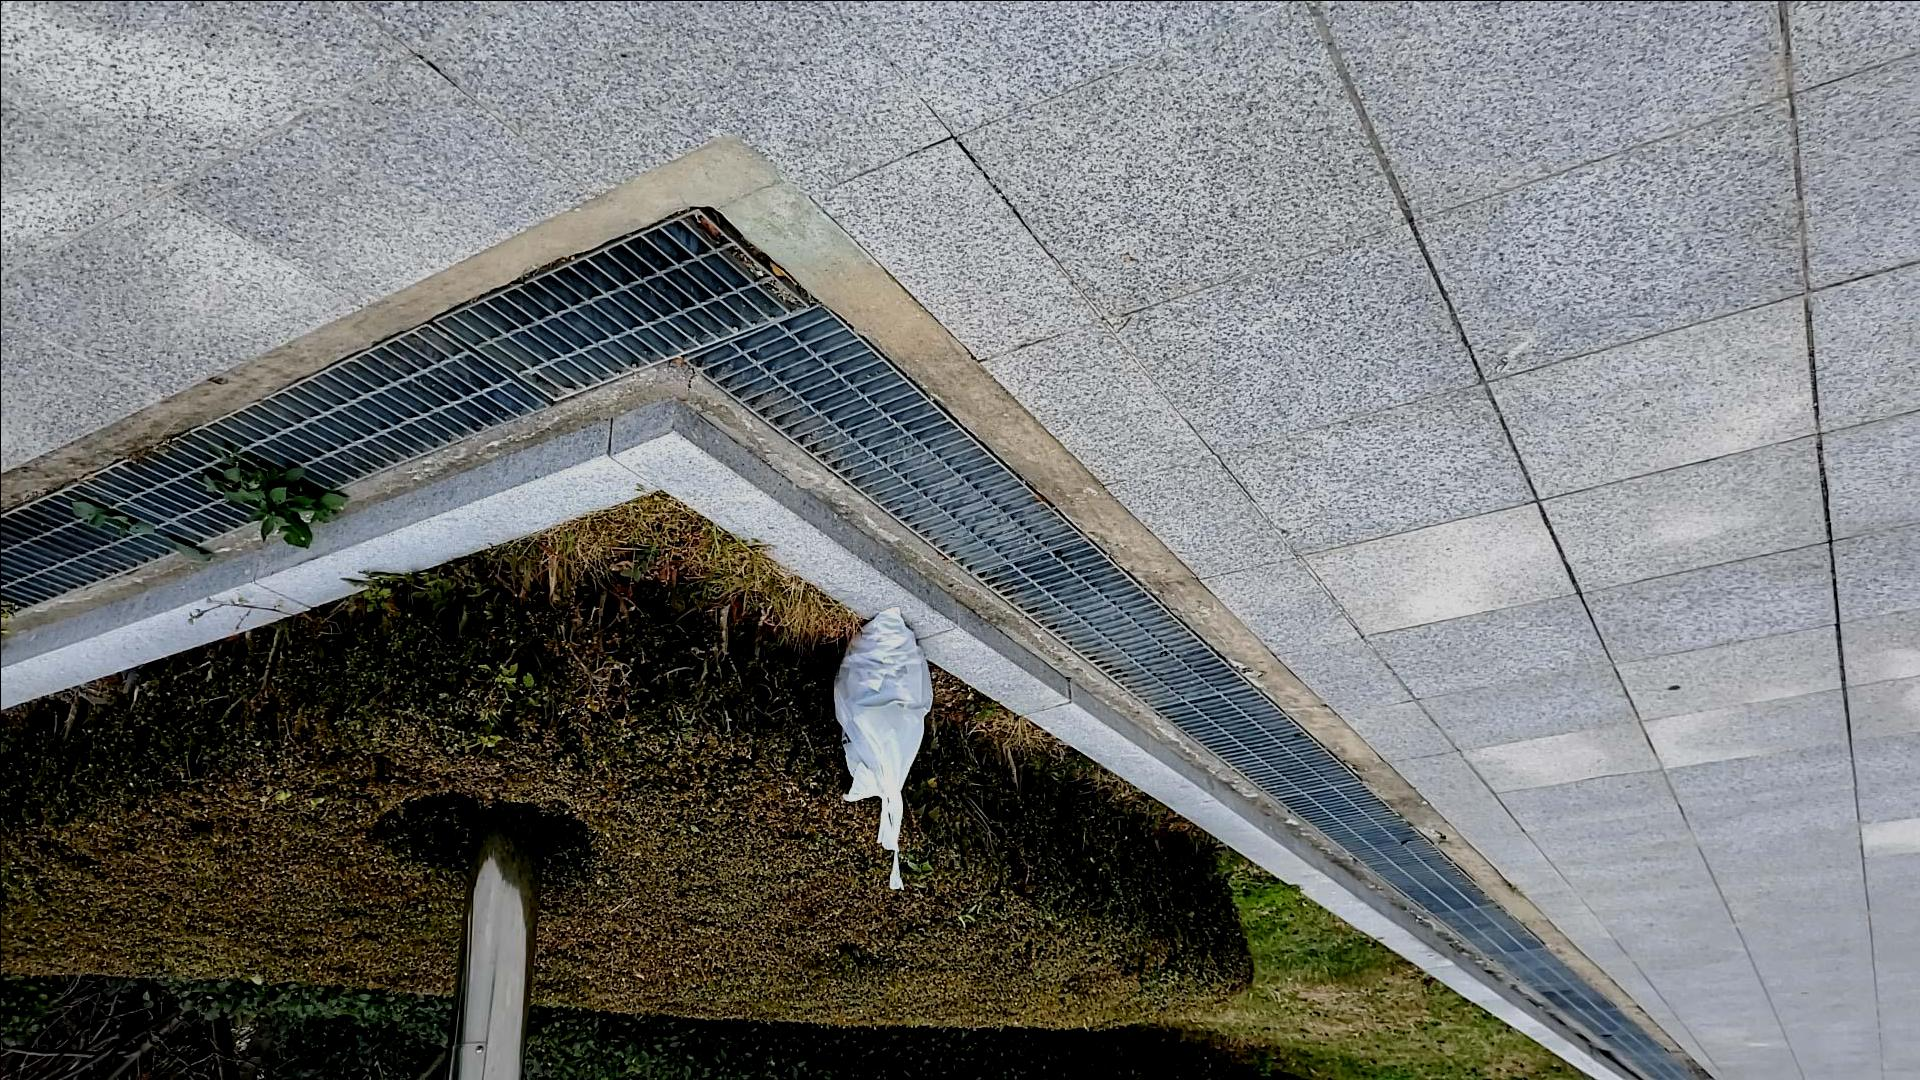white_bag: (819, 595, 951, 901)
